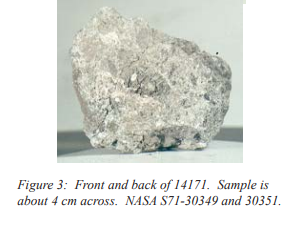Breccia: (58, 0, 239, 156), (113, 21, 227, 140), (101, 47, 209, 136)
